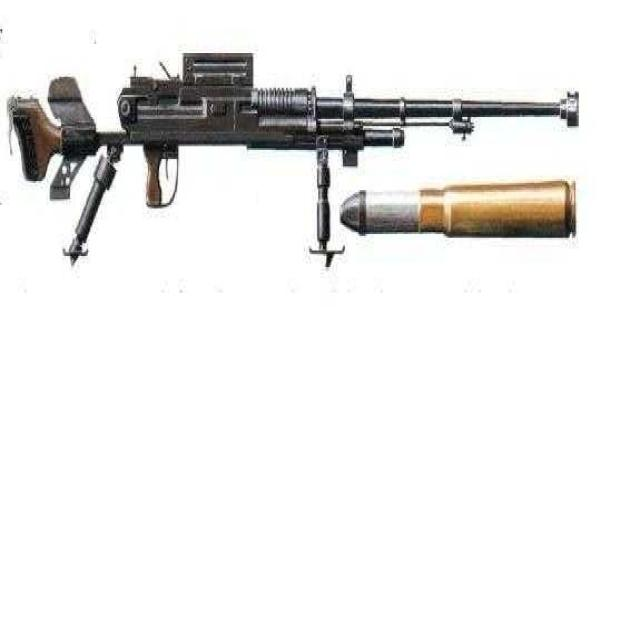heavyweapon: (7, 43, 606, 257)
